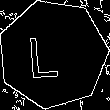L_N: (35, 28, 71, 80)
